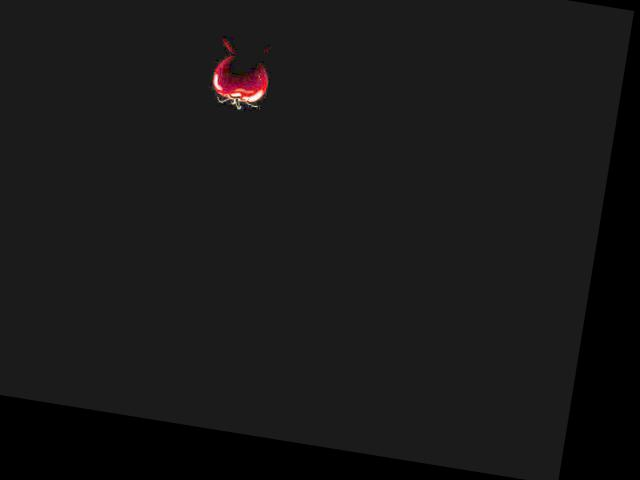tomato: (210, 54, 271, 106)
